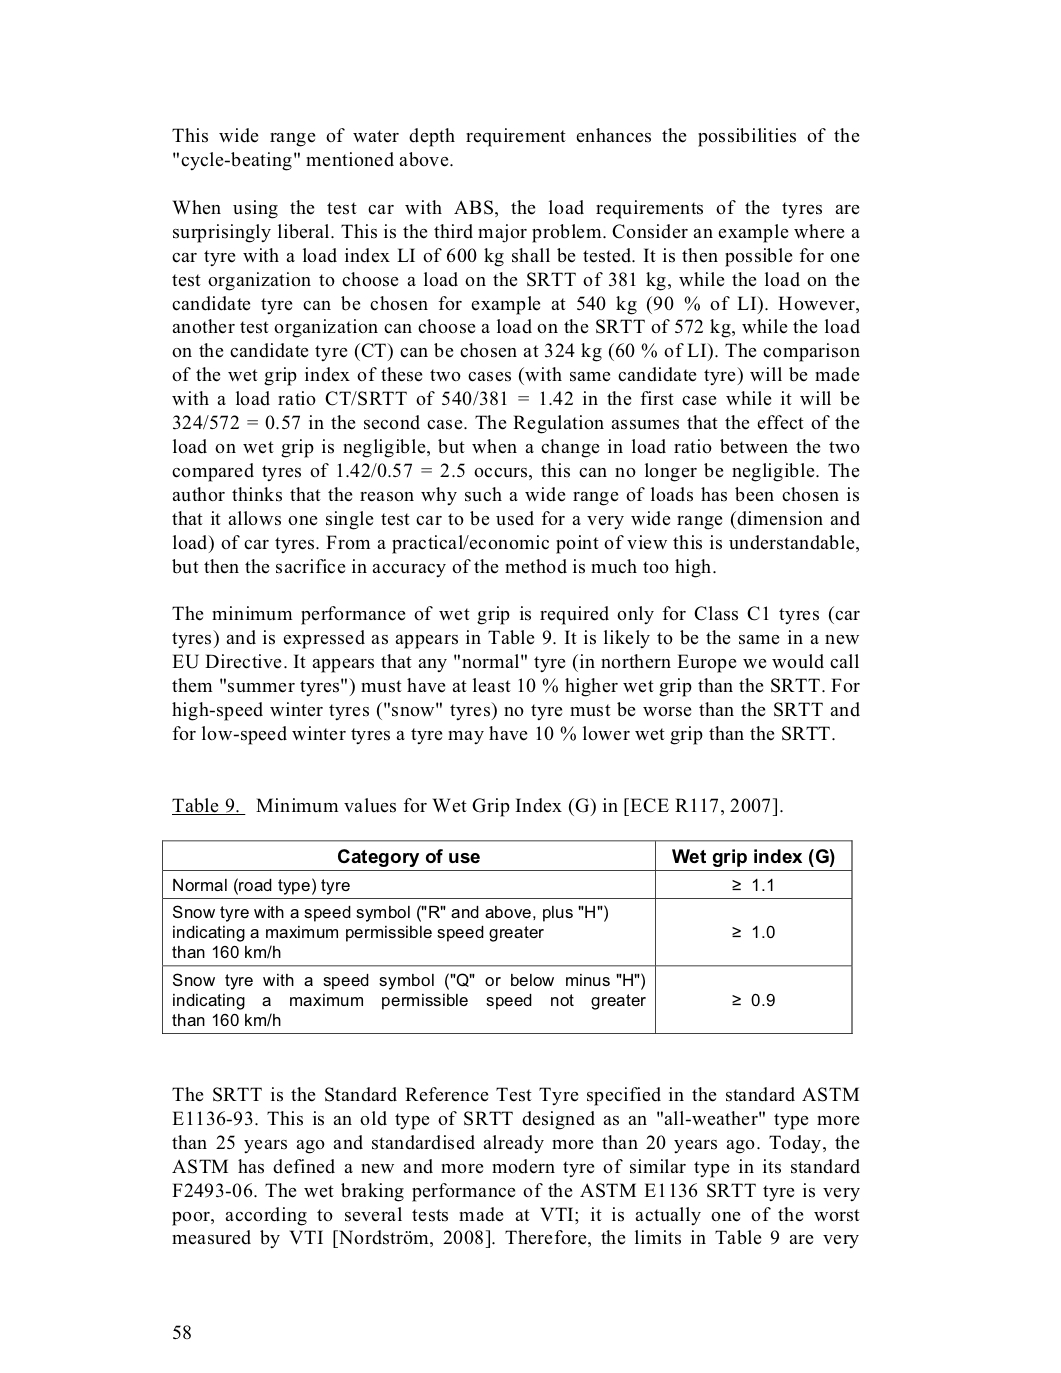Table: (162, 839, 851, 1034)
